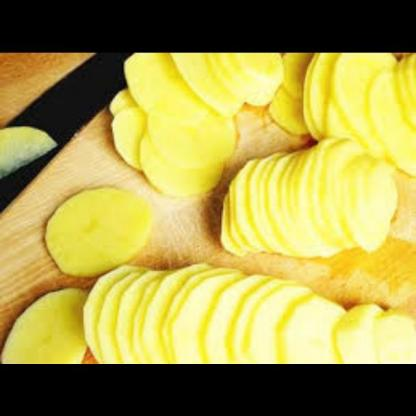potato: (79, 256, 415, 363), (200, 136, 416, 268), (111, 52, 268, 192), (266, 52, 415, 159), (39, 184, 154, 265), (3, 287, 98, 363), (0, 116, 66, 175)
